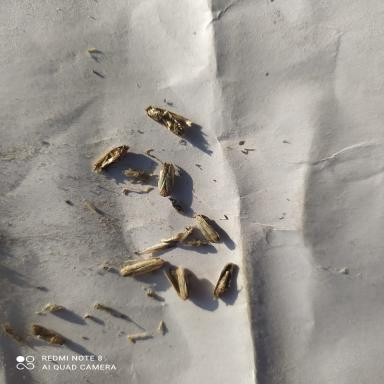pbw: (142, 104, 196, 140), (89, 144, 132, 176), (206, 260, 237, 299), (119, 256, 165, 279), (163, 264, 192, 300), (28, 323, 66, 344), (193, 213, 220, 242), (156, 158, 172, 197)
